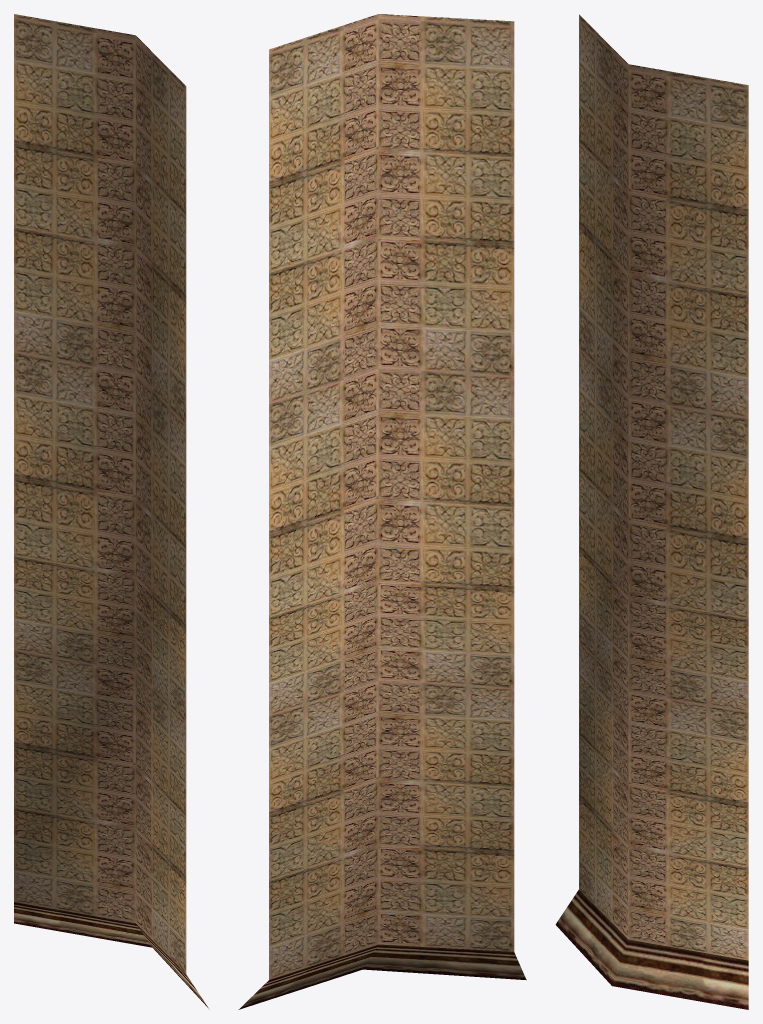
Rendered from PilarBig_quarter.fbx.
3 renders of one model, left to right at view 1: azimuth 90°, elevation 25°; view 2: azimuth 150°, elevation 25°; view 3: azimuth 270°, elevation 25°, orthographic. The views are drawn at different scales.
Visible parts, largest first — view 1: Cylinder008; view 2: Cylinder008; view 3: Cylinder008.
Part boxes in pixels (x1=…): Cylinder008: x1=14, y1=14, x2=209, y2=1009; Cylinder008: x1=238, y1=14, x2=526, y2=1009; Cylinder008: x1=555, y1=14, x2=748, y2=1009.
Bounding box in the file's own units: 231 × 1149 × 221.
